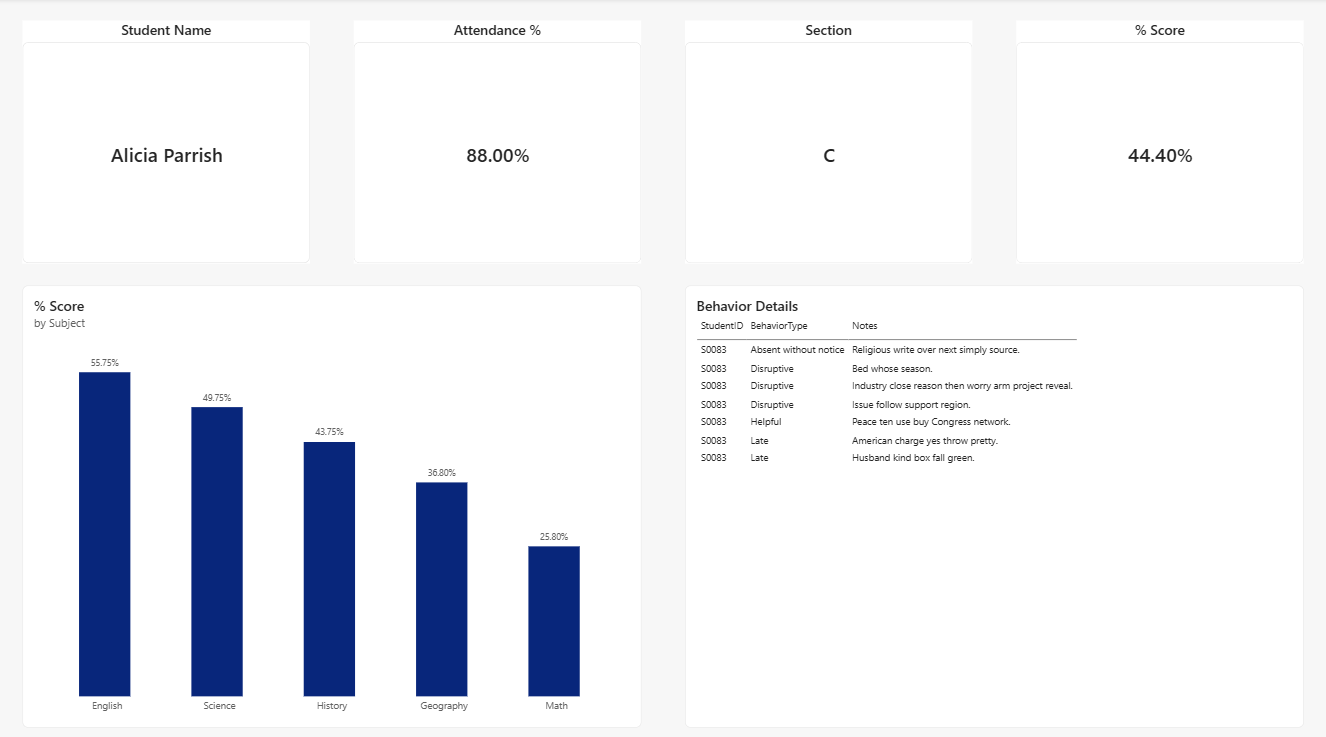

Layout of this report page (visuals, bound fields, positions):
{"tool":"powerbi","page":{"name":"Student Profile","canvas":[1920,1080],"ordinal":1},"visuals":[{"type":"cardVisual","title":"Student Name","fields":{"Data":["Min(Students.Name)"]},"box":[32,32,416,352],"z":0},{"type":"columnChart","fields":{"Category":["Scores.Subject"],"Y":["Measures_Table.% Score"]},"box":[32,416,896,640],"z":1000},{"type":"tableEx","title":"Behavior Details","fields":{"Values":["Behavior.StudentID","Behavior.BehaviorType","Behavior.Notes"]},"box":[992,416,896,640],"z":2000},{"type":"cardVisual","title":"Section","fields":{"Data":["Min(Students.Section)"]},"box":[992,32,416,352],"z":3000},{"type":"cardVisual","title":"% Score","fields":{"Data":["Measures_Table.% Score"]},"box":[1472,32,416,352],"z":4000},{"type":"cardVisual","title":"Attendance % ","fields":{"Data":["Measures_Table.Attendance_%"]},"box":[512,32,416,352],"z":5000}]}

Visuals, with their boxes in screenshot pixels (x1, y1, x2, y2), scaled from the page's 1920x1080 canvas onto the 1326x737 screenshot:
"Student Name" cardVisual: <box>22,22,309,262</box>
columnChart - Scores.Subject x Measures_Table.% Score: <box>22,284,641,721</box>
"Behavior Details" tableEx: <box>685,284,1304,721</box>
"Section" cardVisual: <box>685,22,972,262</box>
"% Score" cardVisual: <box>1017,22,1304,262</box>
"Attendance % " cardVisual: <box>354,22,641,262</box>
